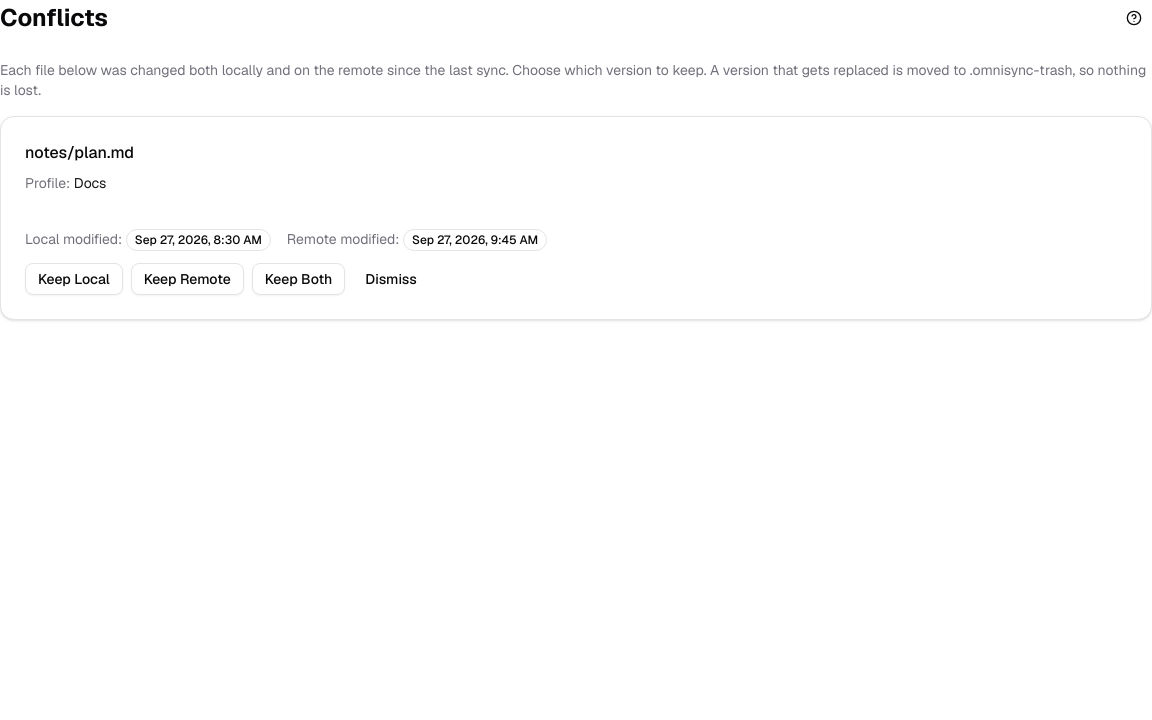
Conflicts page › cancel sends nothing
Click the button "Keep Both" at (299, 279), box [252,263,345,295]
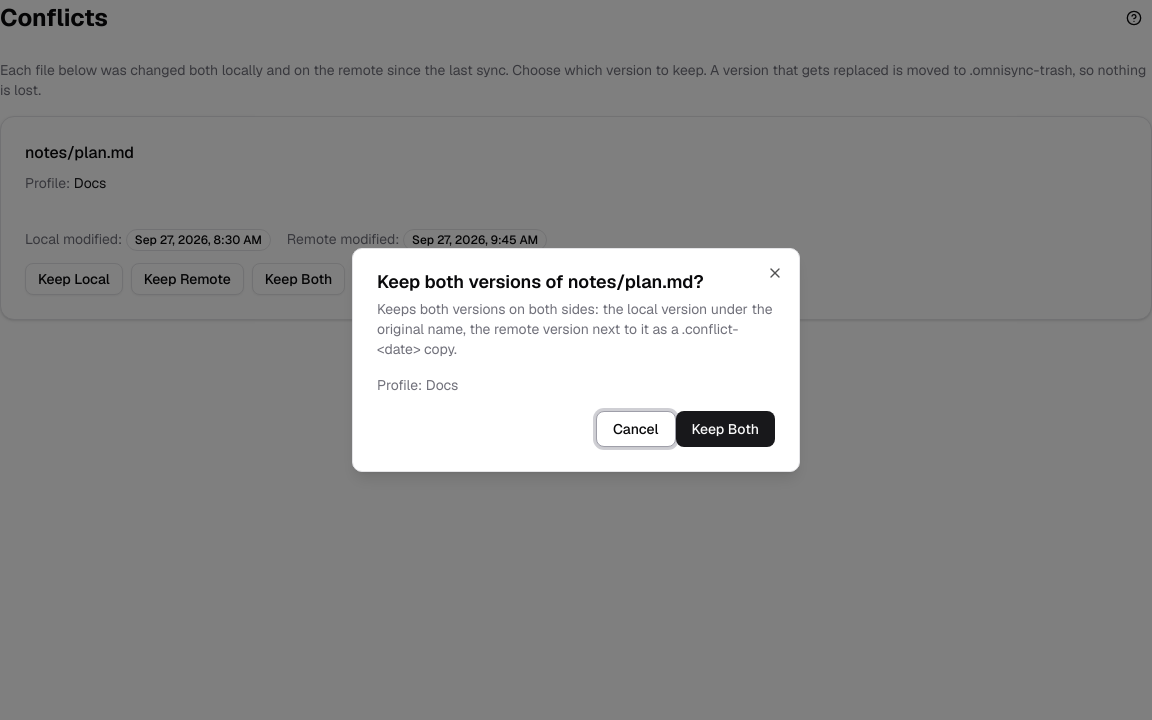
Click the button "Cancel" at (636, 429), box [596,411,676,447]
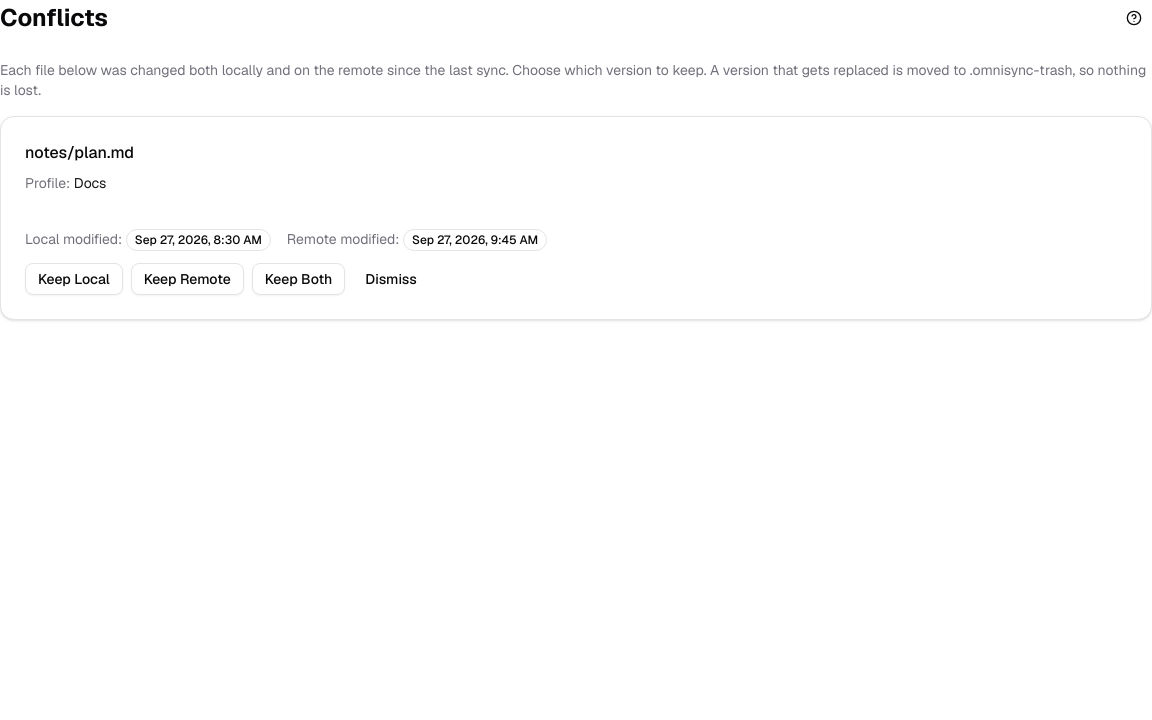
Expected: the dialog is gone
